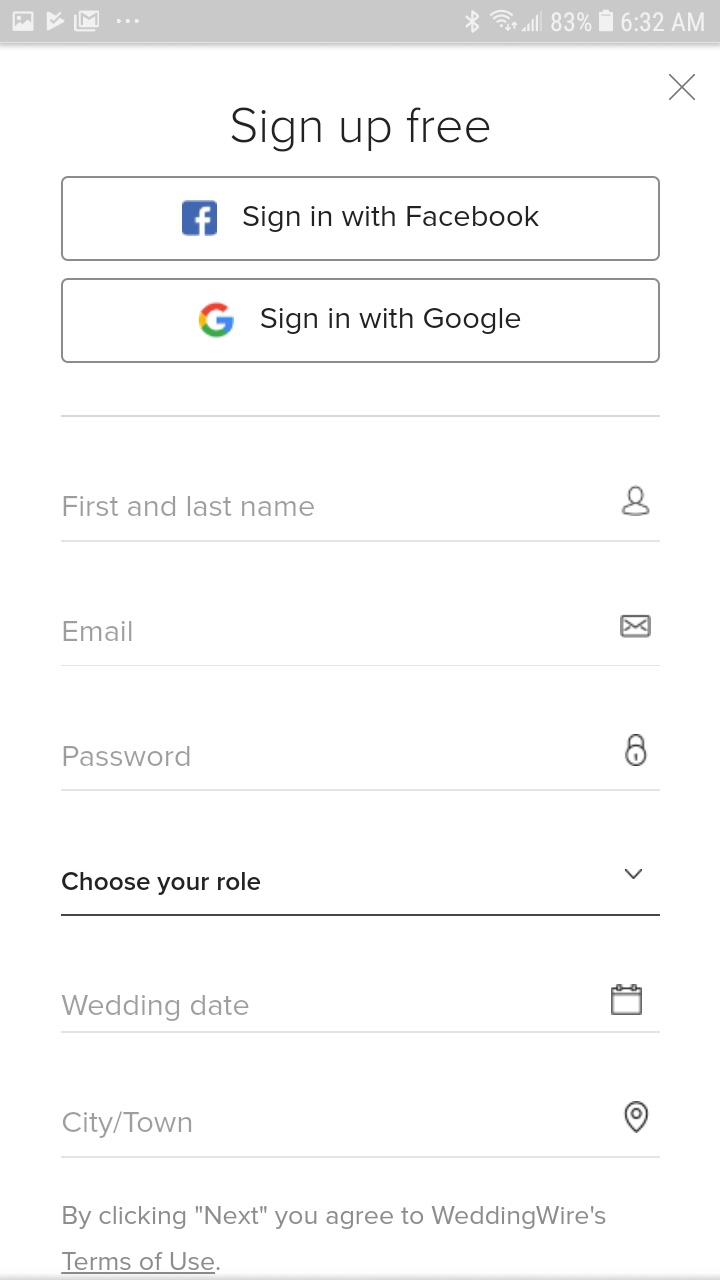EditText: (61, 1100, 660, 1159), (61, 485, 661, 543), (61, 734, 660, 792), (61, 615, 661, 667), (61, 984, 661, 1034), (61, 869, 661, 917)
Icon: (611, 984, 643, 1016), (621, 485, 651, 517), (624, 1100, 649, 1134), (668, 74, 696, 102), (620, 615, 652, 639), (625, 734, 647, 767), (625, 869, 643, 880)
Text: (61, 1205, 606, 1275), (232, 107, 490, 153), (64, 497, 315, 518), (63, 994, 250, 1022), (62, 872, 261, 896), (64, 1111, 193, 1138), (64, 745, 191, 767), (63, 620, 132, 642)
TextButton: (61, 278, 661, 364), (61, 176, 660, 262)
UpperTaskBar: (1, 1, 720, 43)
